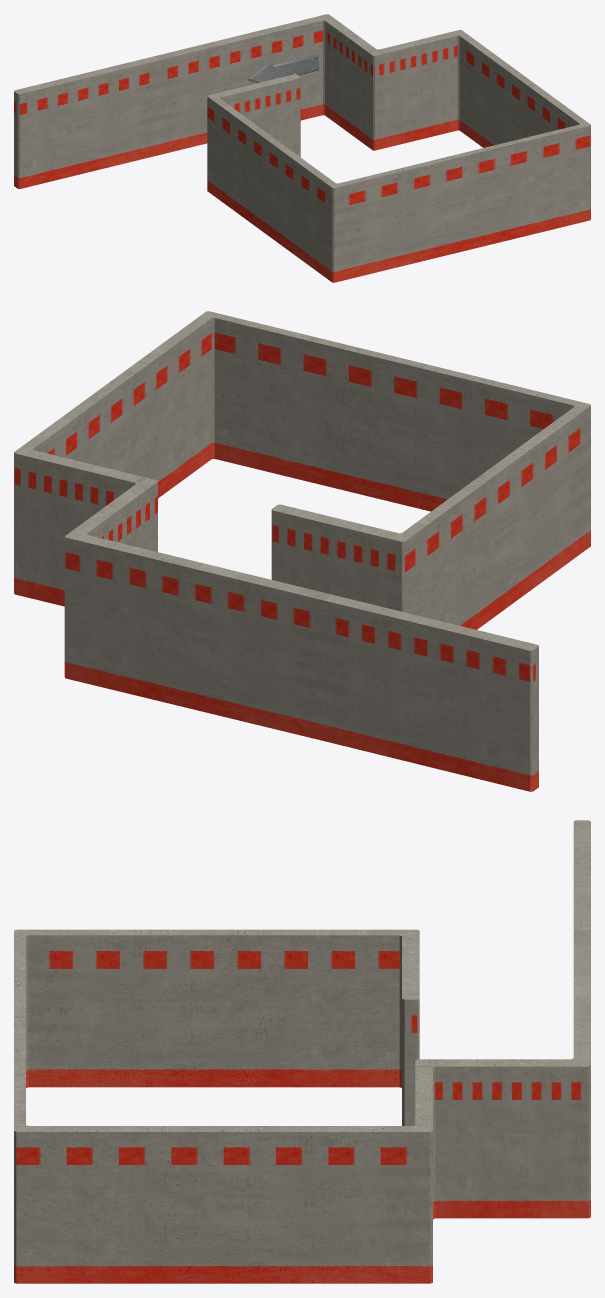
Rendered from starting_pen.dae.
3 views of the same model, one above another, from view 1: azimuth 30°, elevation 25°; view 2: azimuth 150°, elevation 25°; view 3: azimuth 270°, elevation 25° (orthographic). The views are drawn at different scales.
Parts seen in each view (by area): view 1: Starting_Pen; view 2: Starting_Pen; view 3: Starting_Pen.
Part boxes in pixels (left/top/right/bottom): Starting_Pen: left=14, top=14, right=590, bottom=282; Starting_Pen: left=14, top=311, right=590, bottom=791; Starting_Pen: left=14, top=820, right=590, bottom=1283.
Bounding box in the file's own units: 739 × 578 × 168.
